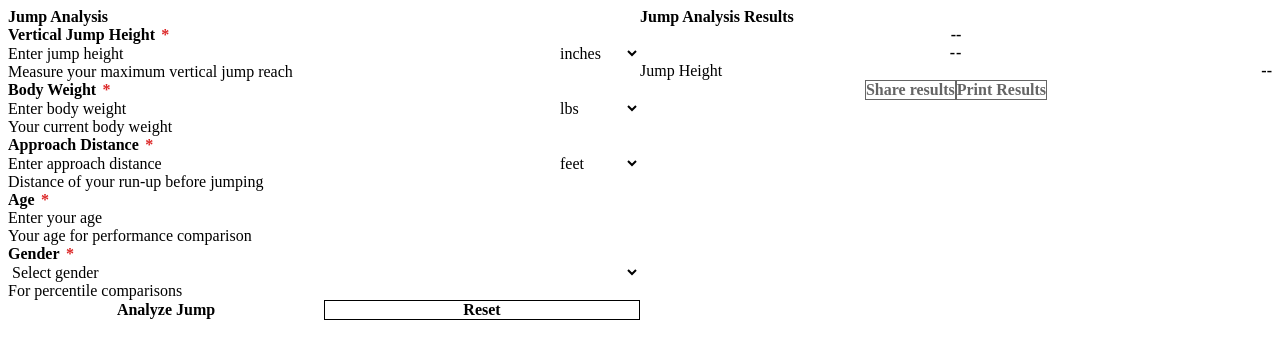
Test: BasketballJumpCalculator › computes the source jump analysis end-to-end
Type "24" into the number field named "Vertical Jump Height" at (282, 54), box x1=8 y1=44 x2=556 y2=63
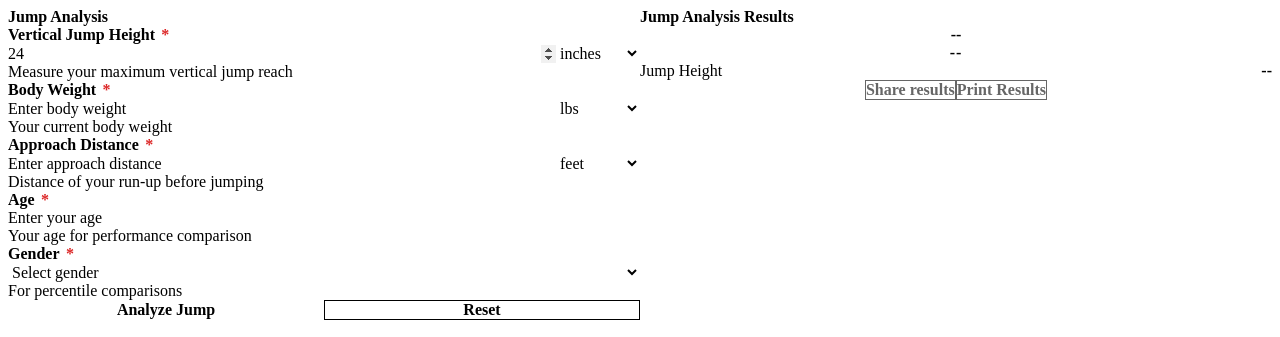
Type "180" into the number field labelled "body weight" at (282, 108), box x1=8 y1=99 x2=556 y2=118
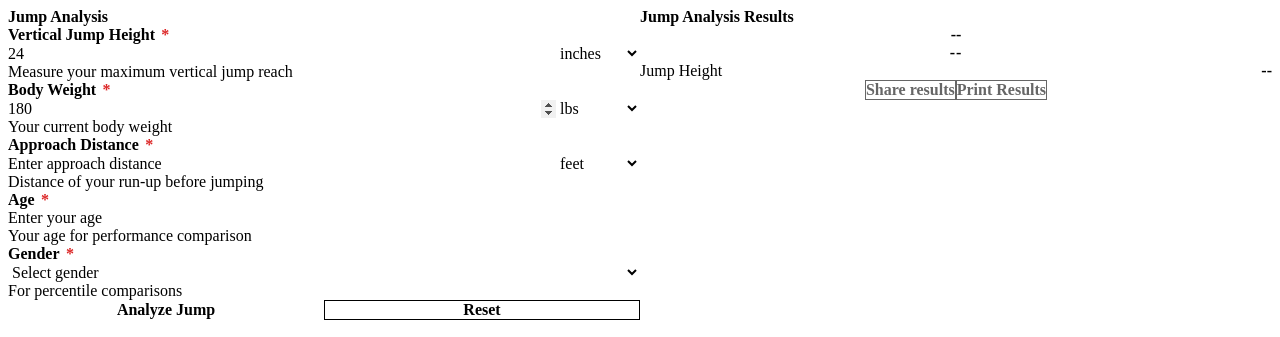
Type "10" into the number field labelled "approach distance" at (282, 164), box x1=8 y1=154 x2=556 y2=173
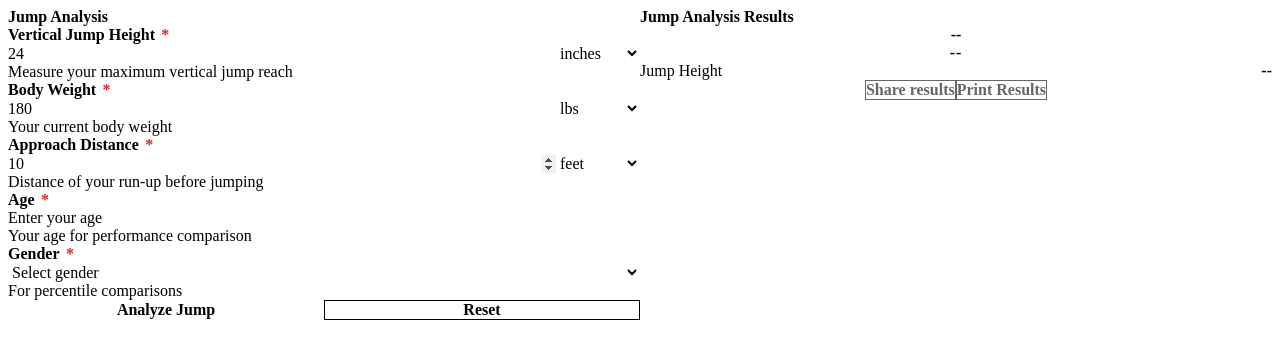
Type "25" into the number field labelled "Age" at (324, 218), box x1=8 y1=209 x2=640 y2=227
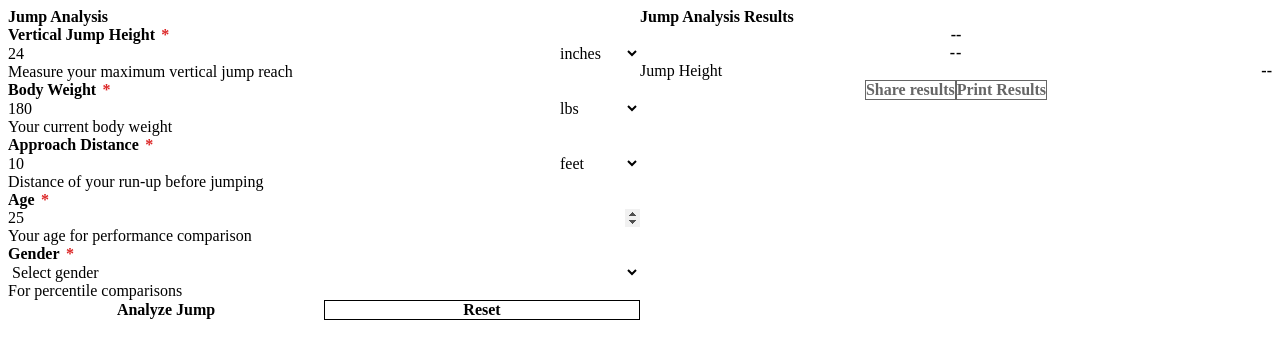
Select "Male" in the dropdown labelled "Gender" at (324, 272), box x1=8 y1=263 x2=640 y2=282
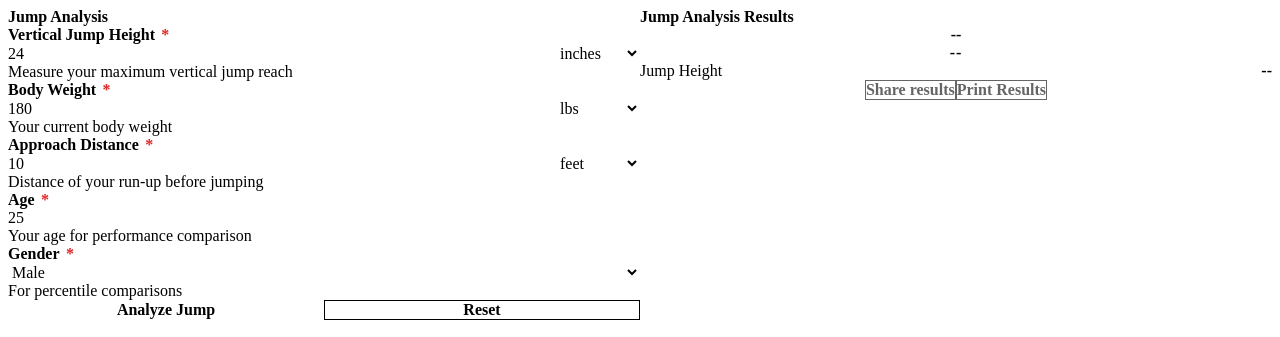
Click the button "Analyze Jump" at (166, 310), box x1=8 y1=300 x2=324 y2=320
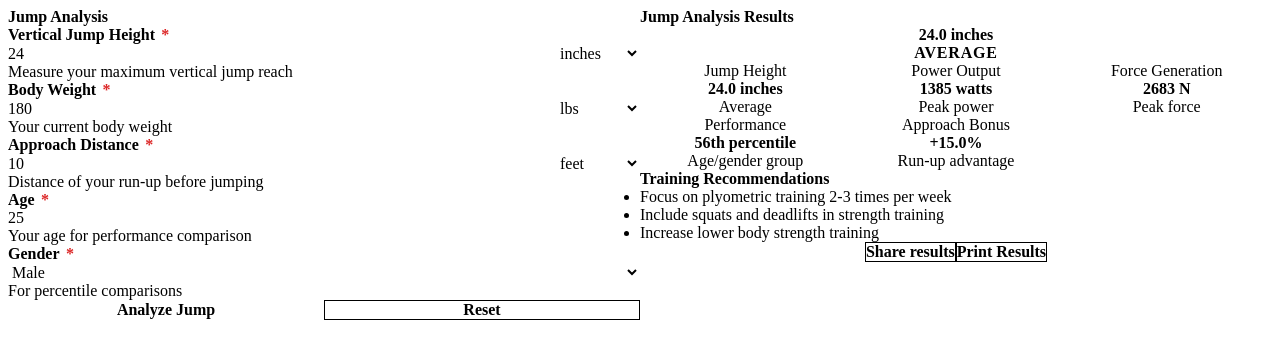
expect the element "Jump Analysis Results" shows "24.0 inches": met, box x1=919 y1=26 x2=993 y2=43
expect the element "Jump Analysis Results" shows "1385 watts": met, box x1=640 y1=8 x2=1272 y2=262
expect the element "Jump Analysis Results" shows "2683 N": met, box x1=640 y1=8 x2=1272 y2=262
